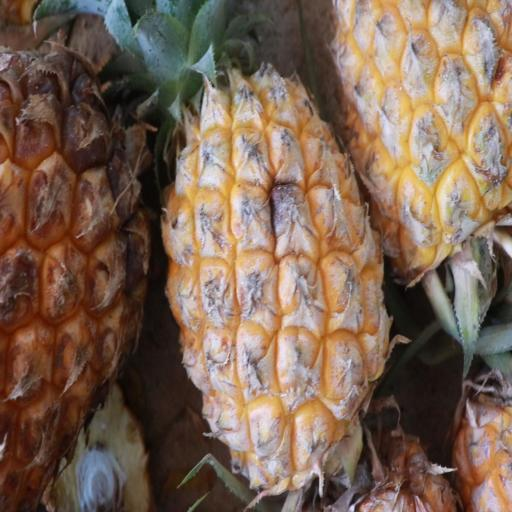Pineapple - v8 v1: (160, 20, 394, 498), (0, 19, 151, 512), (333, 0, 512, 284)
